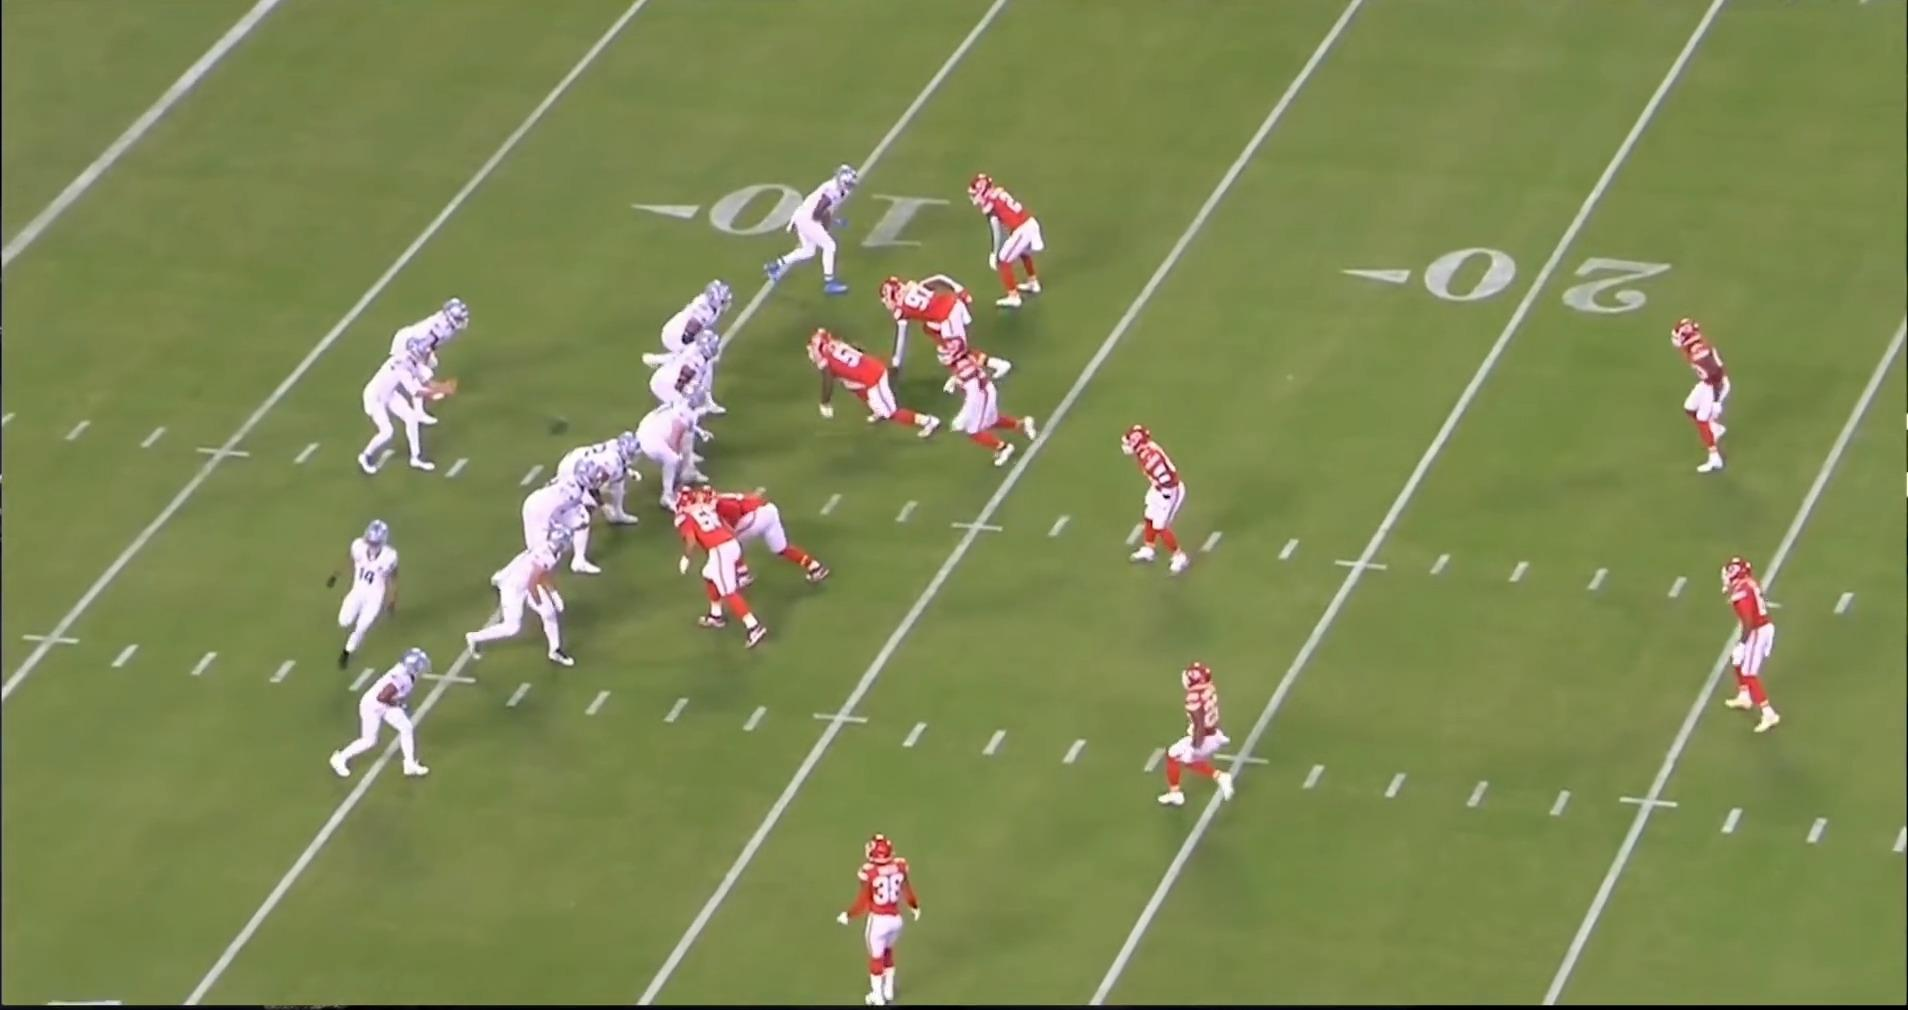defense: (881, 268, 1027, 392), (685, 481, 836, 589), (679, 485, 778, 649), (921, 332, 1040, 467), (796, 329, 936, 443), (1720, 550, 1795, 733), (841, 826, 918, 1001), (1161, 658, 1247, 812), (967, 166, 1050, 311), (1114, 423, 1188, 583), (1661, 310, 1729, 481)
oline: (652, 270, 742, 408), (503, 456, 598, 584), (552, 433, 643, 556), (640, 389, 724, 514), (644, 332, 720, 418)
qb: (355, 339, 442, 477)
skill: (466, 518, 589, 669), (326, 641, 440, 782), (764, 163, 866, 300), (327, 513, 414, 672), (398, 295, 477, 415)
